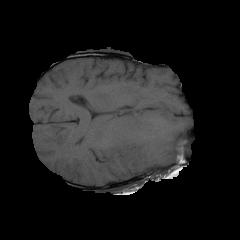glioma: (111, 104, 172, 170)
